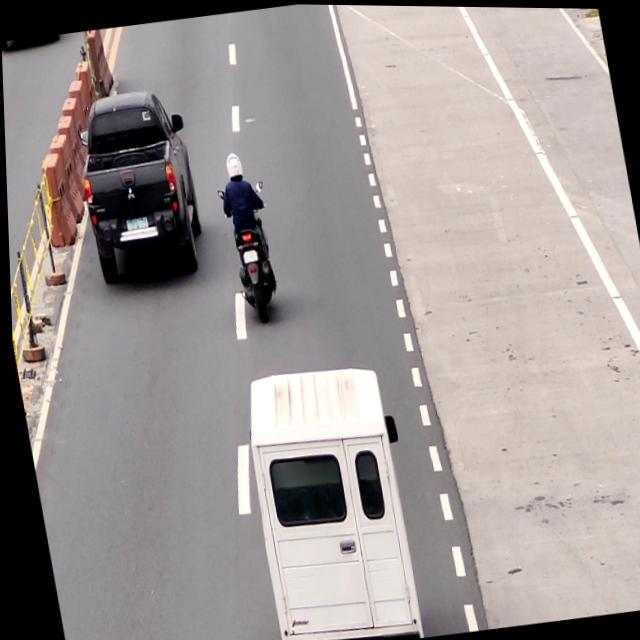Car: (243, 362, 419, 640), (65, 84, 208, 292)
License-Plate: (124, 216, 148, 234), (239, 249, 258, 262)
Motorcycle: (212, 143, 287, 331)
